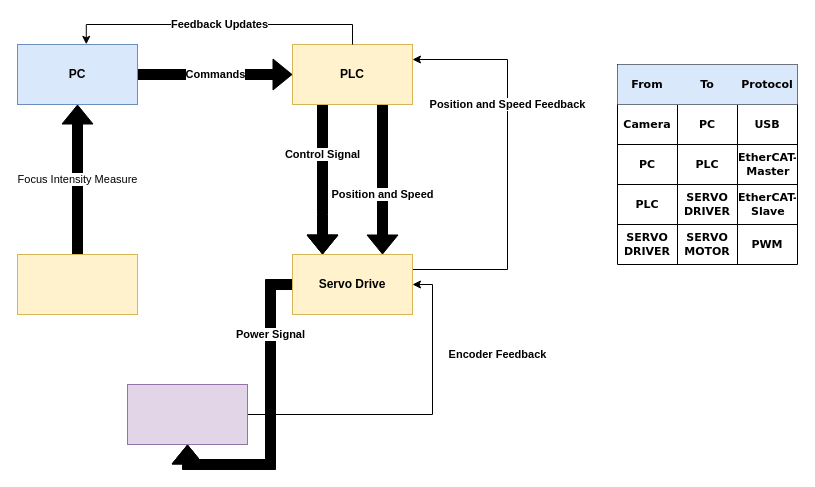
Image size: 815x487. Some labels were removed from this diagram. Each missing label, with the box of its shape:
Dino-Lite Camera: (16, 254, 138, 314)
Motor: (126, 384, 248, 444)
